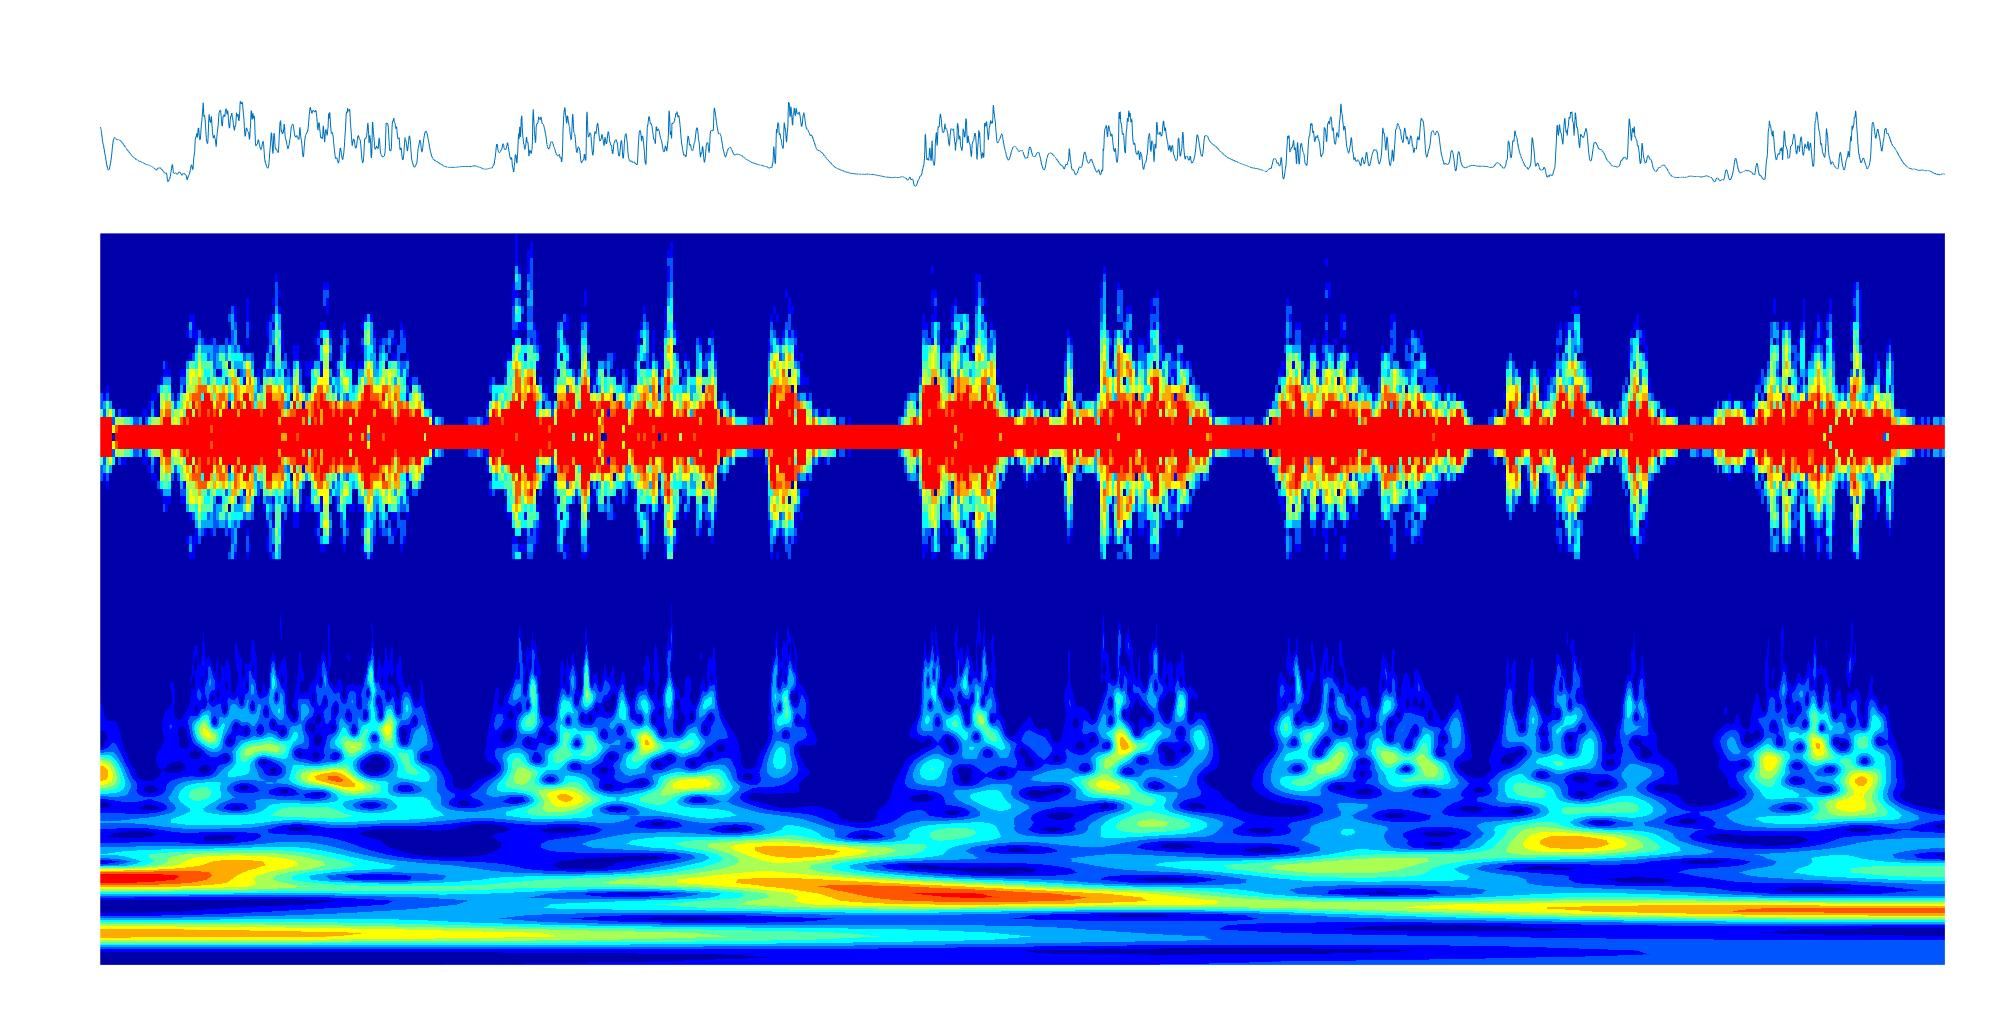TURBULENT: (188, 232, 427, 965), (497, 235, 721, 965), (1271, 235, 1470, 963), (1760, 235, 1895, 965), (1087, 235, 1208, 963), (914, 232, 1008, 963), (764, 235, 813, 965), (1553, 232, 1597, 965)
